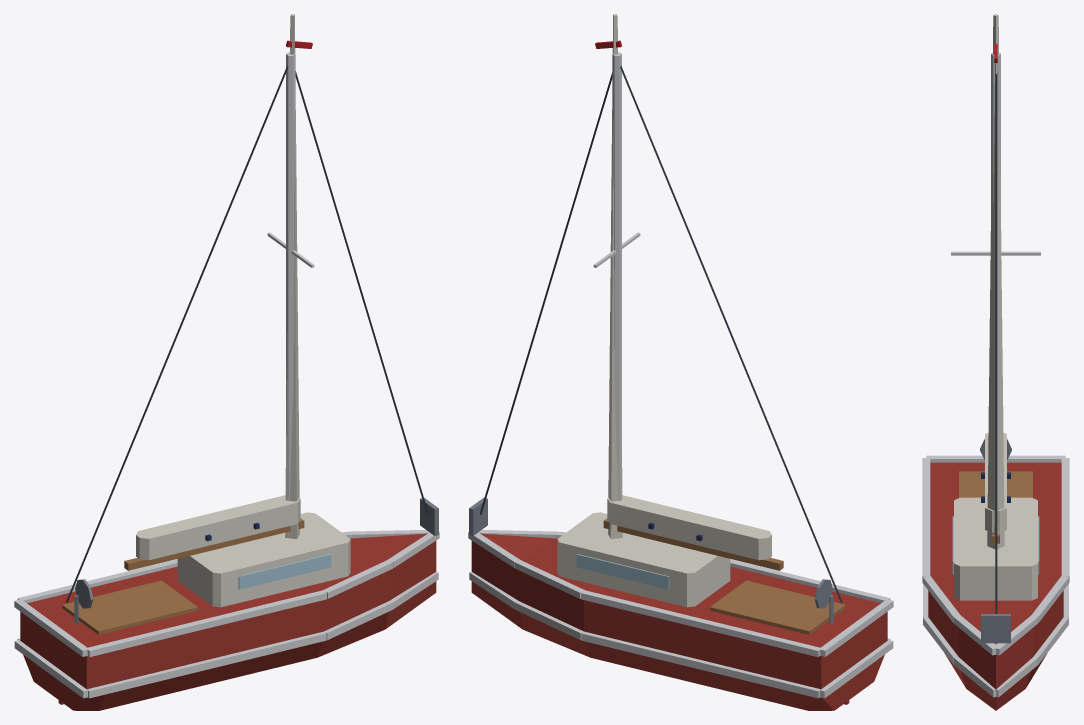
Rendered from sailboat_b.glb.
3 renders of one model, left to right at view 1: azimuth 30°, elevation 25°; view 2: azimuth 150°, elevation 25°; view 3: azimuth 270°, elevation 25°, orthographic.
Visible parts, largest first — view 1: sailboat_b_hull, mast; view 2: sailboat_b_hull, mast; view 3: sailboat_b_hull, mast.
Part boxes in pixels (x1,y1,x2,y2): sailboat_b_hull: [14, 497, 439, 710]; mast: [66, 14, 427, 602]; sailboat_b_hull: [468, 497, 893, 710]; mast: [480, 14, 842, 602]; sailboat_b_hull: [922, 439, 1069, 710]; mast: [951, 14, 1040, 613].
Size of the model in its own units: 4.58 by 7.23 by 1.47.
